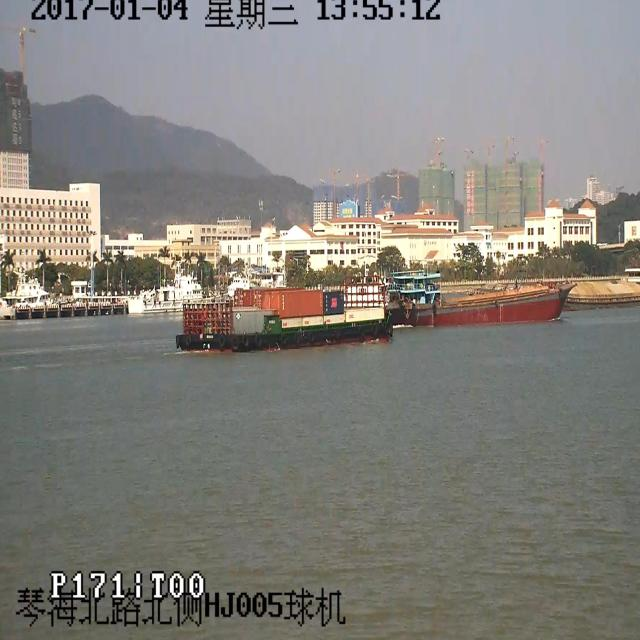cargoship: (186, 272, 387, 353), (398, 259, 561, 326)
